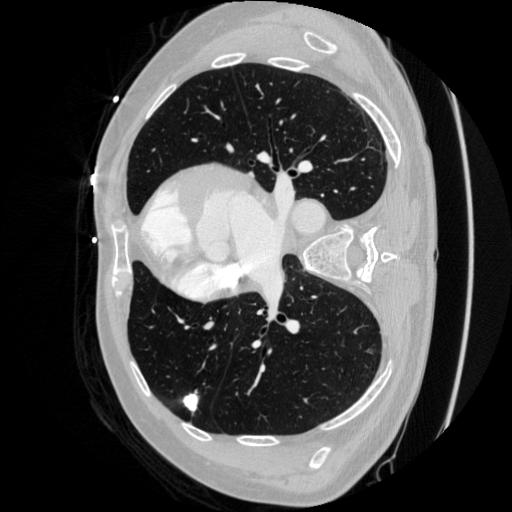nodule: (182, 394, 202, 414)
